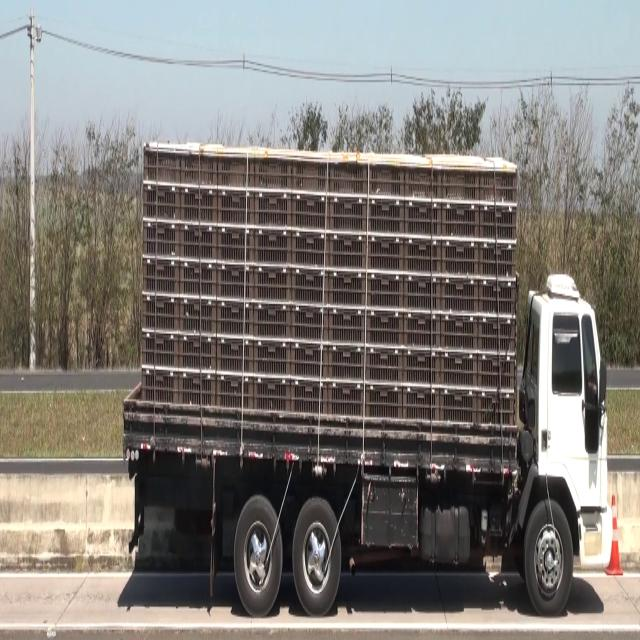-axle: (525, 496, 576, 618), (293, 494, 343, 618), (235, 495, 282, 617)
